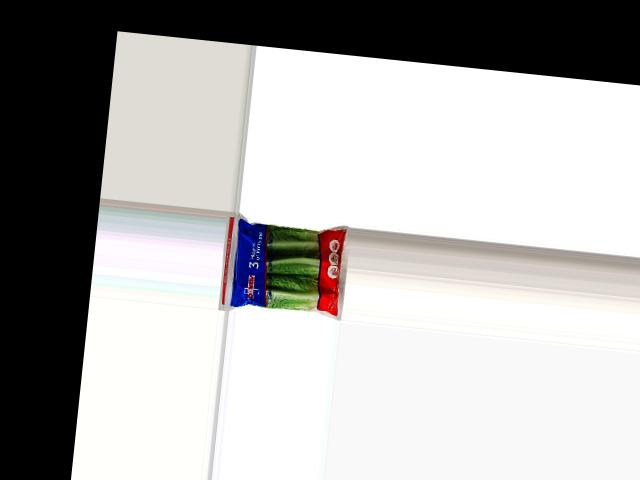lettuce: (227, 216, 351, 318)
